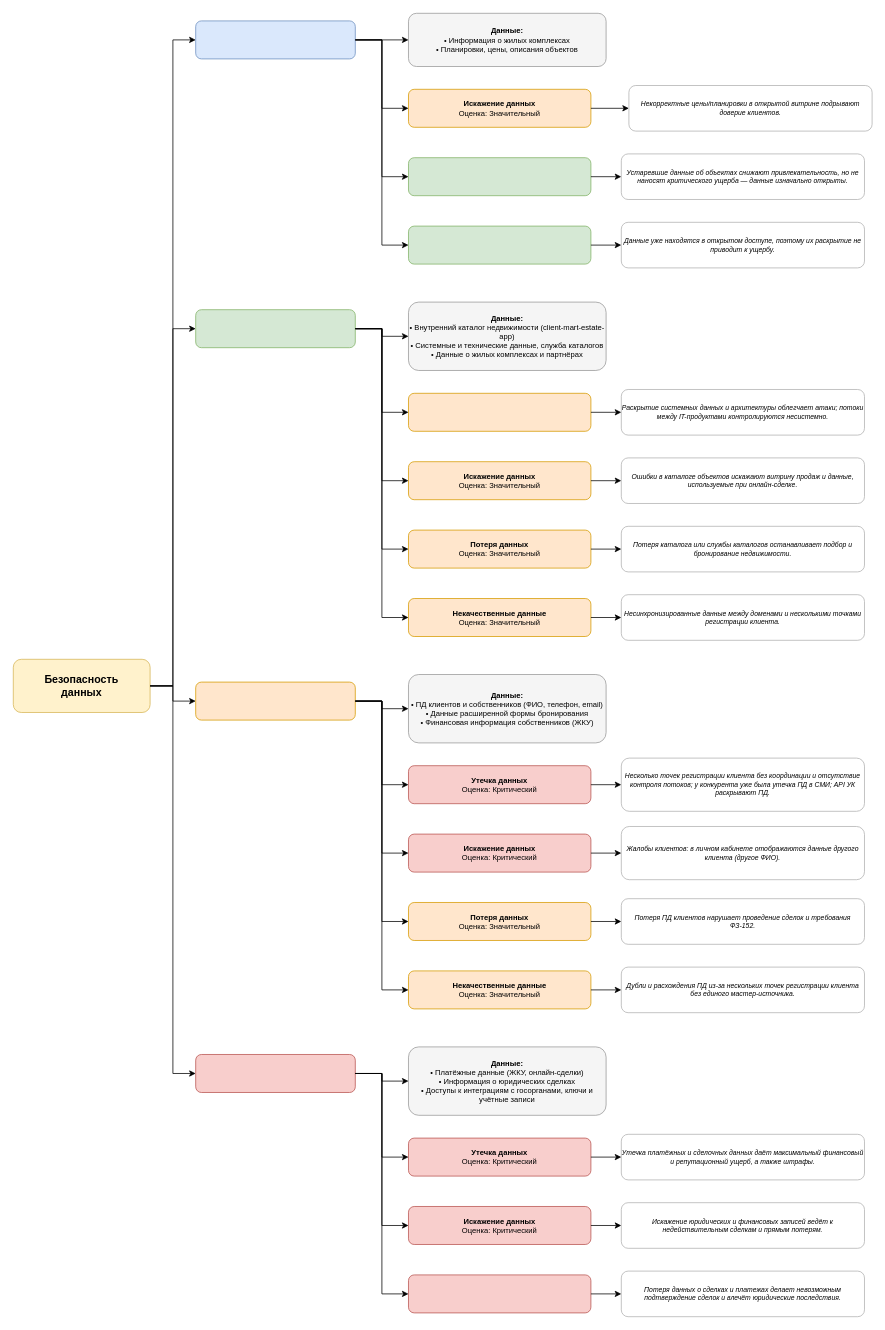
Image size: 885x1330. Some labels were removed from this diagram. The shapes that lost their labels are listed below. From the top down, each one's centre as x and y in pixels, then its label:
pixel 275 39: Публичные данные
pixel 499 176: Обесценивание данных Оценка: Незначительный
pixel 499 244: Утечка данных Оценка: Незначительный
pixel 275 328: Внутренние данные
pixel 499 412: Утечка данных Оценка: Значительный
pixel 275 700: Конфиденциальные данные
pixel 275 1073: Секретные данные
pixel 499 1293: Потеря данных Оценка: Критический
